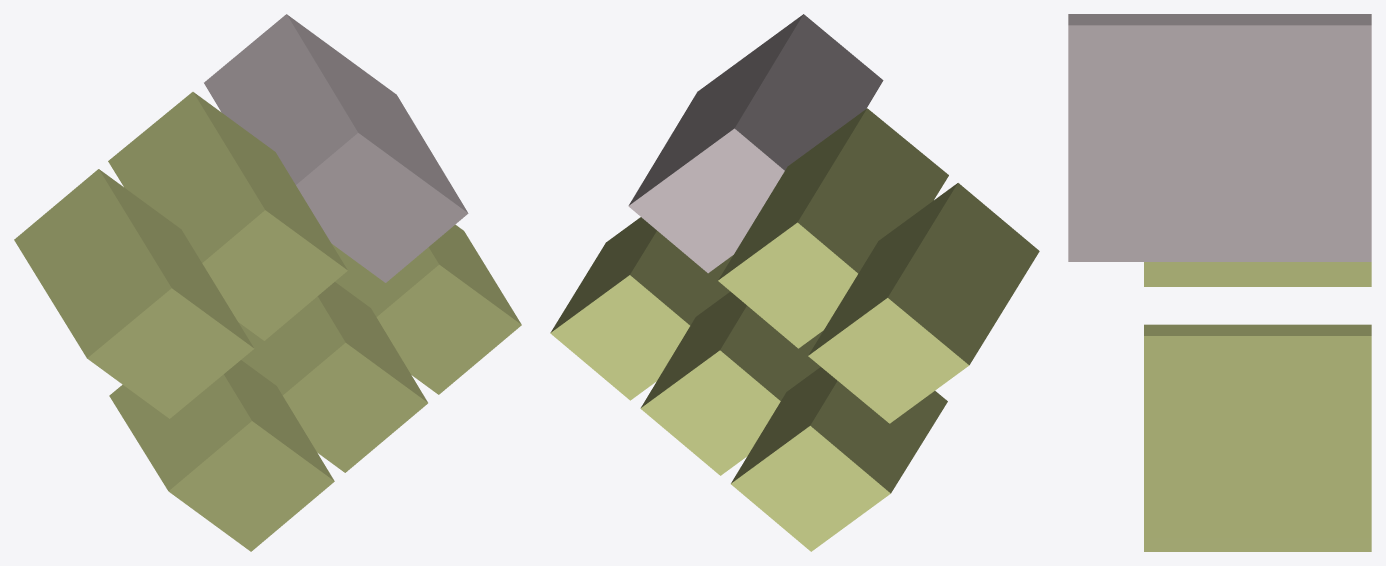
3 renders of one model, left to right at view 1: azimuth 30°, elevation 25°; view 2: azimuth 150°, elevation 25°; view 3: azimuth 270°, elevation 25°, orthographic. The views are drawn at different scales.
Parts seen in each view (by area): view 1: 0_1_2_0_3_3_0_2_2_0; view 2: 0_1_2_0_3_3_0_2_2_0; view 3: 0_1_2_0_3_3_0_2_2_0.
Boxes of the visible parts, bbox=[...] form: 0_1_2_0_3_3_0_2_2_0: bbox=[14, 14, 521, 551]; 0_1_2_0_3_3_0_2_2_0: bbox=[550, 14, 1039, 551]; 0_1_2_0_3_3_0_2_2_0: bbox=[1068, 14, 1371, 551].
Bounding box in the file's own units: 26.72 × 26.93 × 12.
